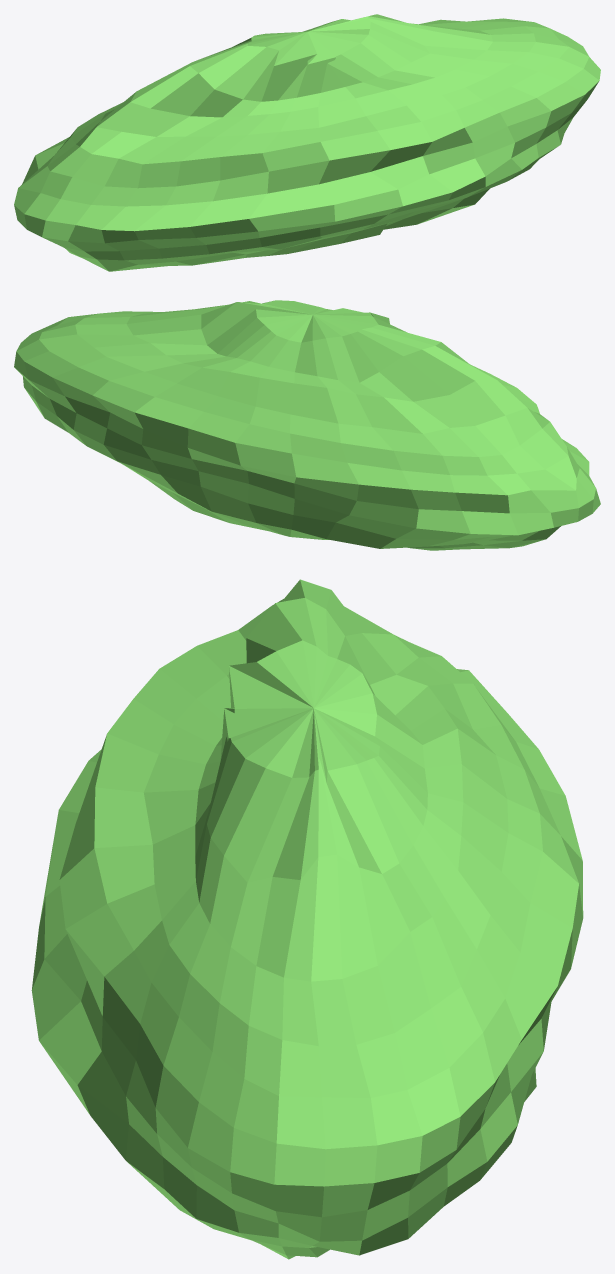
3 views of the same model, one above another, from view 1: azimuth 30°, elevation 25°; view 2: azimuth 150°, elevation 25°; view 3: azimuth 270°, elevation 25° (orthographic). The views are drawn at different scales.
Visible parts, largest first — view 1: 球; view 2: 球; view 3: 球.
Part boxes in pixels (x1,y1,x2,y2): 球: (14, 14, 600, 271); 球: (14, 300, 600, 550); 球: (31, 579, 583, 1259).
Size of the model in its own units: 3.46 by 1.24 by 1.46.
